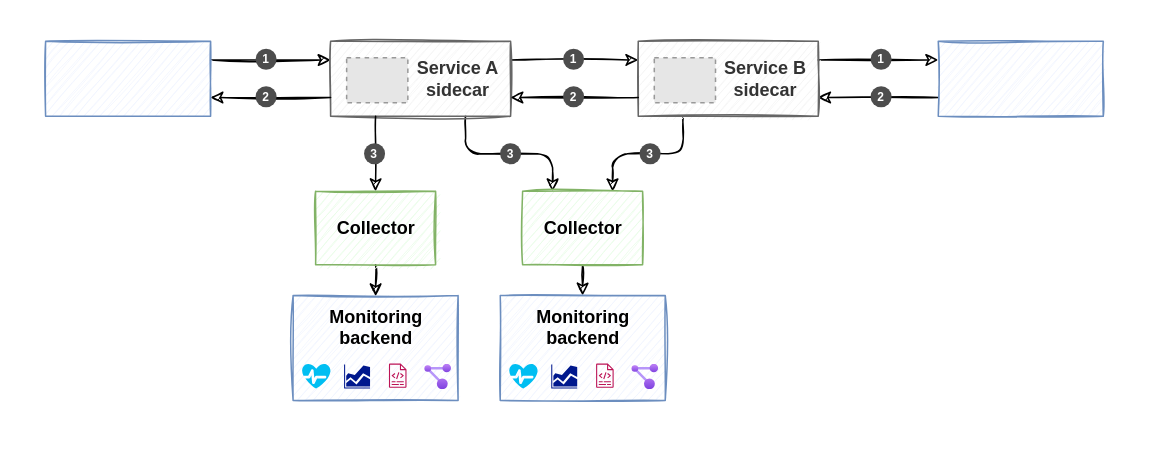
This 1151x456 diagram has some shape labels left out. Grey dashed boxes stand in for pictures. Each missing label, with the centre of its shape:
"Service A" belongs at point 127,78.
"Service B" belongs at point 1020,78.
